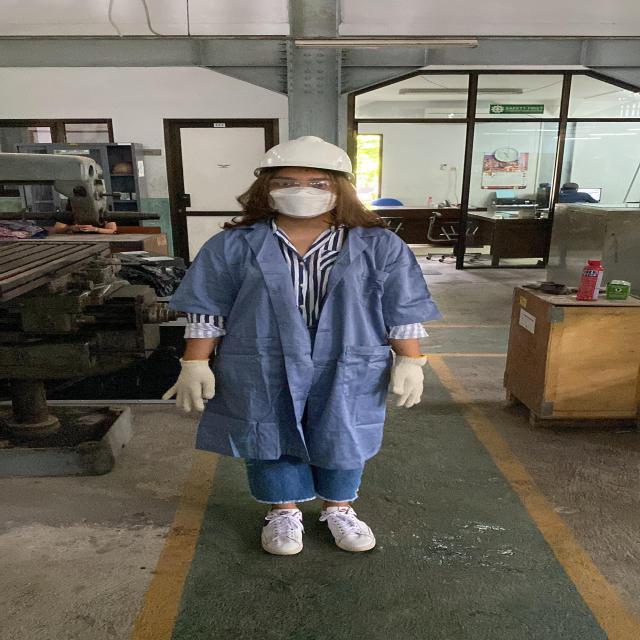face_mask: (267, 175, 341, 220)
glasses: (265, 177, 341, 196)
hand_glove: (154, 358, 222, 415), (388, 355, 431, 409)
head_helmet: (250, 134, 354, 177)
person: (163, 133, 441, 568)
shoes: (317, 502, 378, 554), (256, 506, 314, 560)
